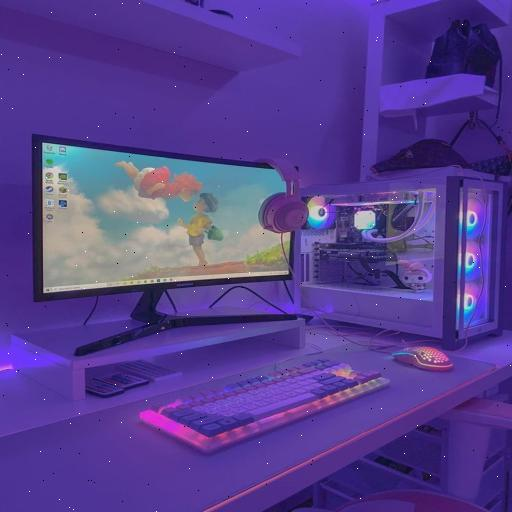computer case: (296, 168, 506, 351)
monitor: (33, 135, 290, 301)
